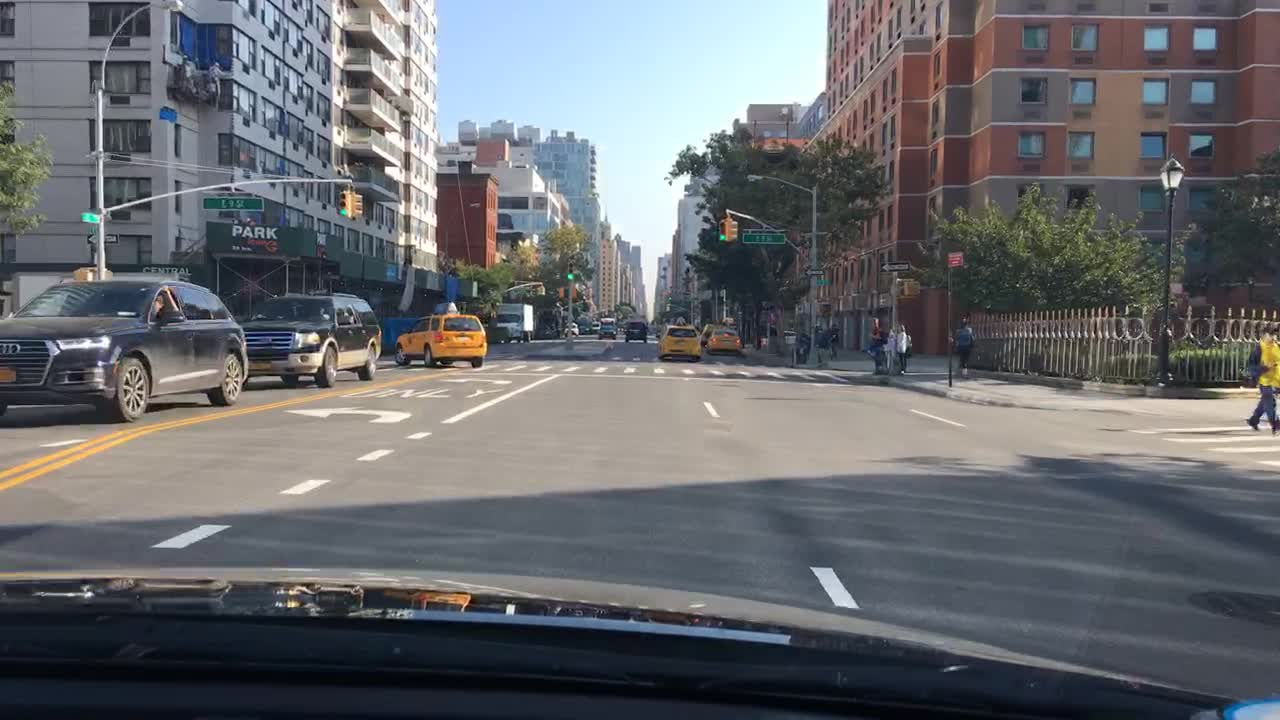car: (0, 276, 250, 424), (238, 288, 382, 387), (394, 301, 486, 367), (655, 315, 702, 364), (705, 327, 743, 356), (699, 321, 726, 345), (624, 321, 647, 342), (596, 323, 616, 339), (563, 320, 580, 337), (589, 319, 602, 336), (578, 323, 590, 336), (616, 324, 626, 334)
person: (1243, 327, 1278, 434), (953, 316, 978, 377), (895, 322, 912, 373), (869, 328, 884, 361), (795, 333, 810, 362), (827, 325, 839, 357), (879, 325, 888, 357), (887, 325, 896, 355), (811, 328, 822, 348), (823, 328, 830, 349)
traffic light: (897, 277, 920, 297), (337, 189, 352, 216), (351, 190, 364, 217), (73, 266, 95, 281), (727, 219, 739, 241), (563, 260, 576, 280), (716, 219, 728, 240), (817, 302, 833, 315), (103, 268, 115, 280), (535, 284, 546, 297), (557, 285, 566, 298), (664, 301, 672, 314), (665, 290, 674, 301), (571, 286, 580, 297)
traffic sign: (199, 194, 264, 213), (741, 231, 785, 244), (86, 230, 119, 246), (879, 260, 911, 272), (946, 250, 964, 268), (81, 210, 99, 224), (803, 266, 825, 276), (815, 276, 831, 287)
truck: (495, 301, 535, 343)
